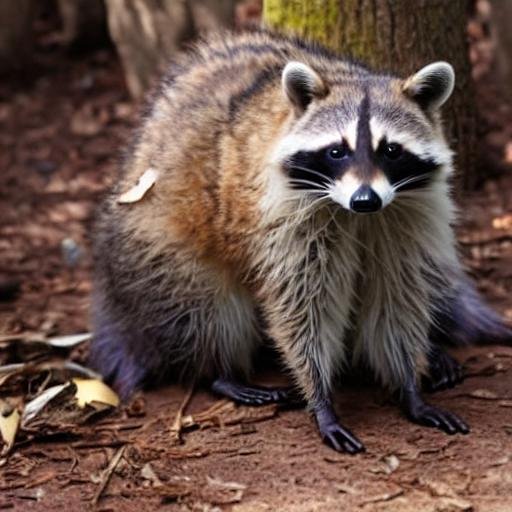raccoon: (77, 23, 489, 386)
